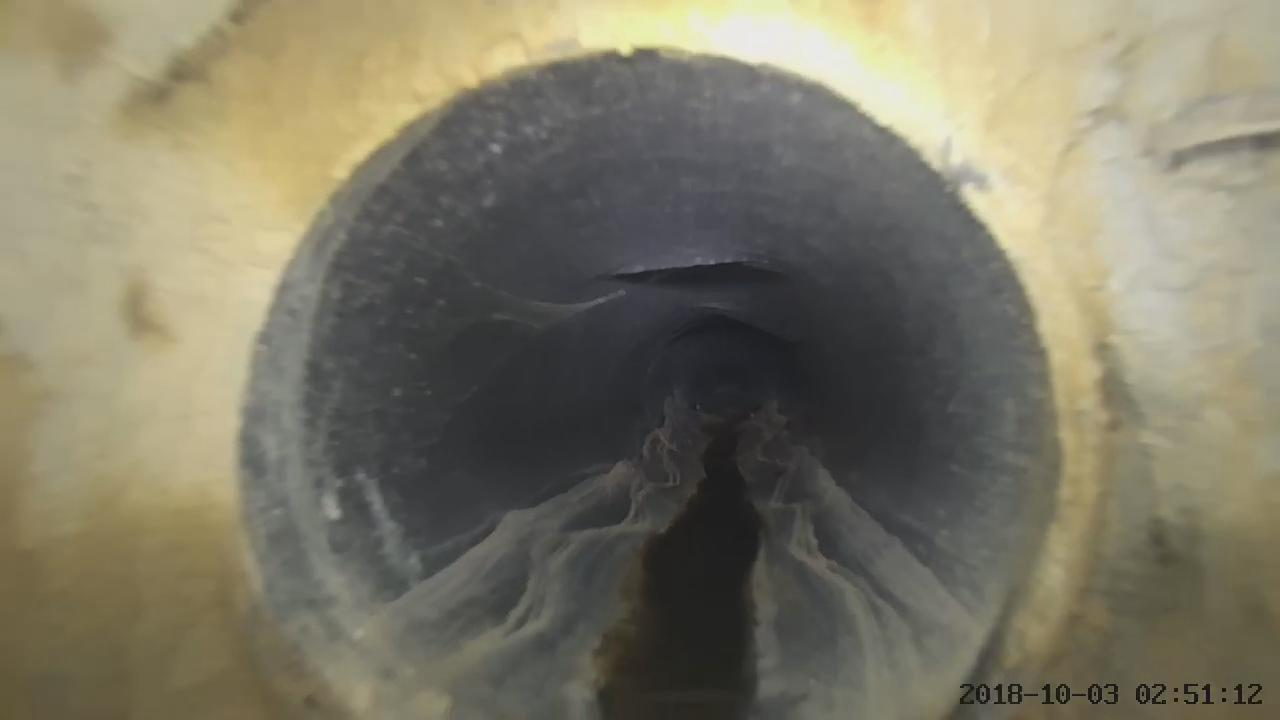BX: (567, 233, 838, 356)
